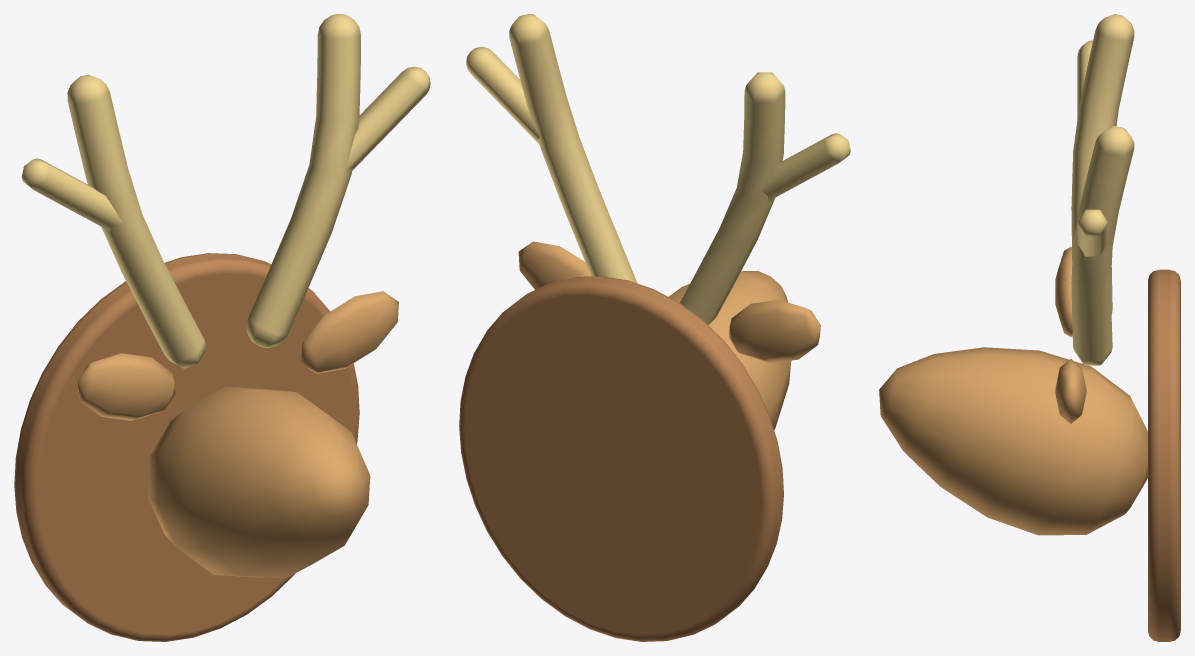
The model's file is antler_wall_mount.glb.
3 renders of one model, left to right at view 1: azimuth 30°, elevation 25°; view 2: azimuth 150°, elevation 25°; view 3: azimuth 270°, elevation 25°, orthographic. The views are drawn at different scales.
Visible parts, largest first — view 1: antler_wall_mount_mesh; view 2: antler_wall_mount_mesh; view 3: antler_wall_mount_mesh.
Boxes of the visible parts, <box> form: antler_wall_mount_mesh: <box>14,14,430,641</box>; antler_wall_mount_mesh: <box>459,14,850,641</box>; antler_wall_mount_mesh: <box>879,14,1180,641</box>.
Size of the model in its own units: 0.3863 by 0.5566 by 0.2743.
